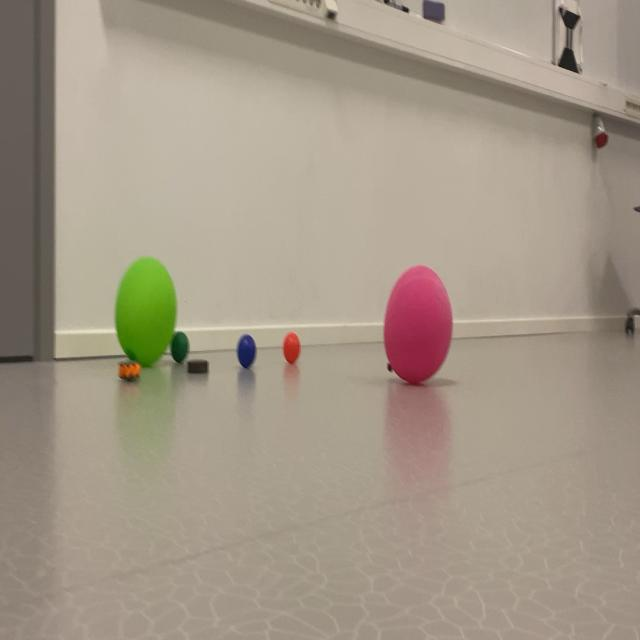6: (225, 299, 315, 412)
7: (278, 325, 302, 377)
green ball: (229, 319, 257, 380)
red ball: (170, 324, 190, 365)
